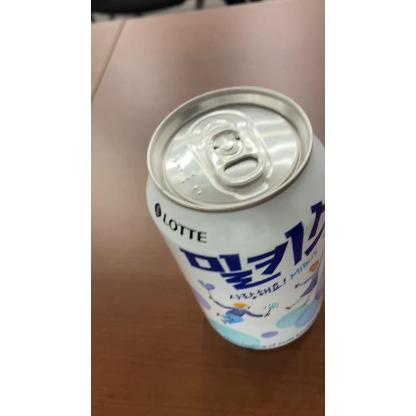Can: (142, 80, 324, 354)
